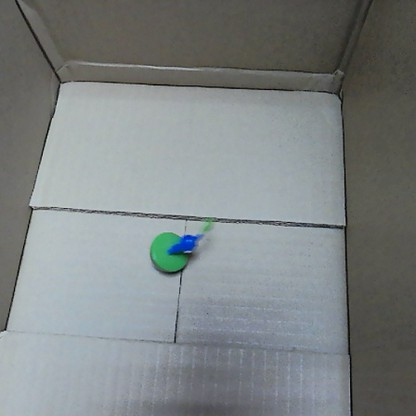leafairy: (147, 213, 214, 277)
